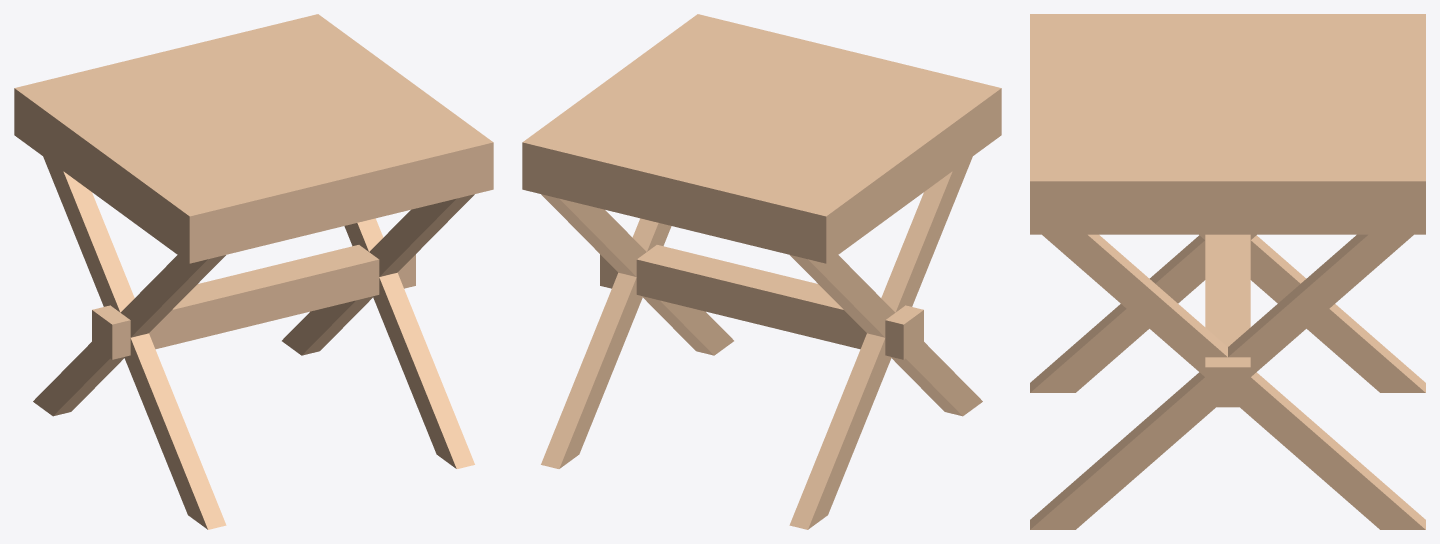
File: kn-table-cross.glb
3 renders of one model, left to right at view 1: azimuth 30°, elevation 25°; view 2: azimuth 150°, elevation 25°; view 3: azimuth 270°, elevation 25°, orthographic. The views are drawn at different scales.
Parts seen in each view (by area): view 1: tableCross(Clone); view 2: tableCross(Clone); view 3: tableCross(Clone).
Part boxes in pixels (box(x1,y1,x2,y2)): tableCross(Clone): box(14, 14, 493, 529); tableCross(Clone): box(522, 14, 1001, 529); tableCross(Clone): box(1030, 14, 1425, 529).
Size of the model in its own units: 1 by 1 by 1.
